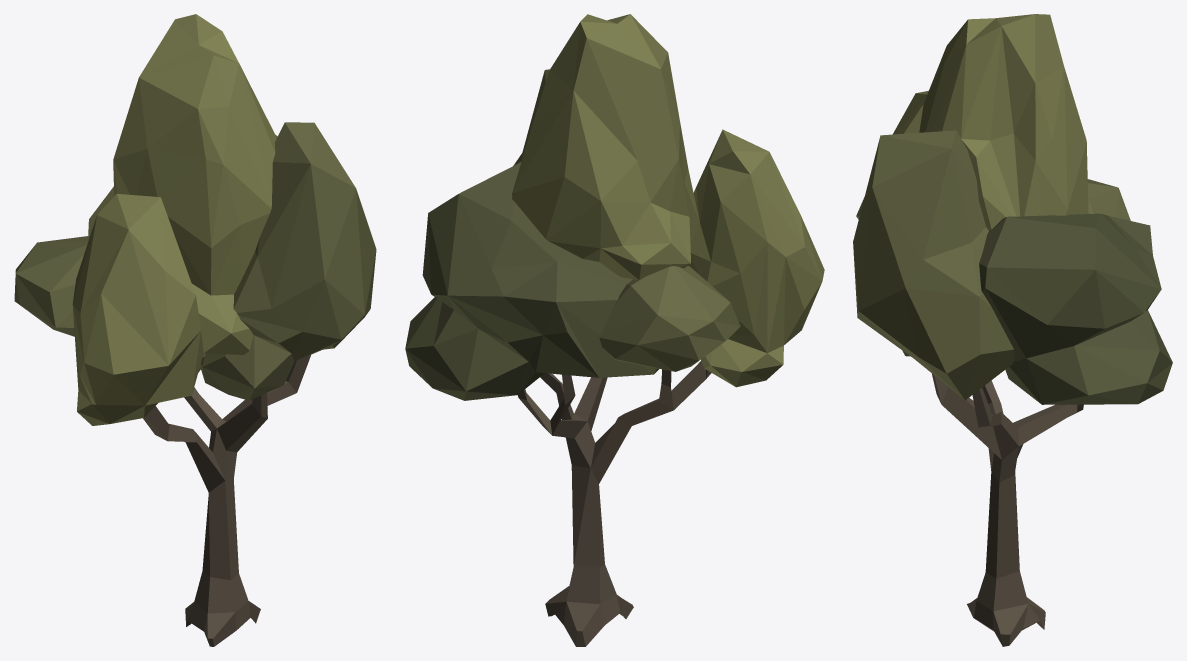
The model's file is env_tree_round3.gltf.
The picture shows the model from 3 angles, left to right: view 1: azimuth 30°, elevation 25°; view 2: azimuth 150°, elevation 25°; view 3: azimuth 270°, elevation 25°; orthographic projection.
Parts seen in each view (by area): view 1: env_tree_round3; view 2: env_tree_round3; view 3: env_tree_round3.
Boxes of the visible parts, box(x1,y1,x2,y2) form: env_tree_round3: box(14, 14, 376, 646); env_tree_round3: box(405, 14, 824, 646); env_tree_round3: box(853, 14, 1172, 646).
Bounding box in the file's own units: 4.43 × 8.27 × 3.86.
Materials: 1 (1 with a texture image).
